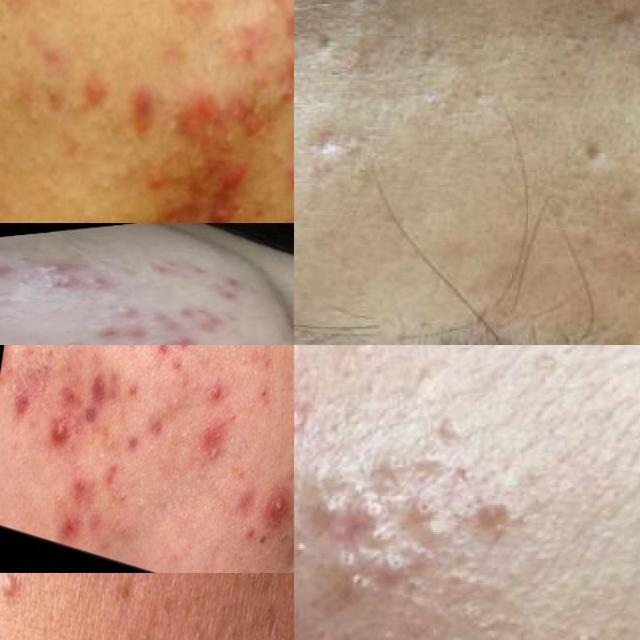acne_scars: (562, 123, 630, 210), (184, 401, 236, 484), (308, 114, 360, 193), (595, 0, 640, 89), (144, 298, 240, 337), (298, 24, 362, 68), (140, 259, 183, 278)
comedone: (330, 546, 433, 608), (356, 492, 400, 548), (435, 408, 477, 449), (202, 277, 260, 305), (432, 618, 497, 640), (92, 168, 128, 207), (294, 528, 324, 569), (260, 143, 294, 176), (46, 268, 91, 292), (294, 573, 306, 640), (410, 492, 434, 525), (116, 489, 136, 515), (38, 277, 62, 292), (14, 270, 38, 285)
flat_wart: (0, 573, 33, 634)
papule: (74, 354, 120, 437), (200, 153, 253, 208), (121, 81, 167, 138), (466, 490, 517, 541), (29, 254, 83, 277), (84, 69, 115, 109), (83, 321, 133, 345), (204, 377, 228, 410), (72, 475, 100, 503), (116, 302, 146, 324), (82, 270, 112, 292), (59, 512, 80, 542), (162, 332, 201, 345), (0, 254, 16, 282)
pustule: (40, 410, 76, 456), (269, 487, 294, 523)
